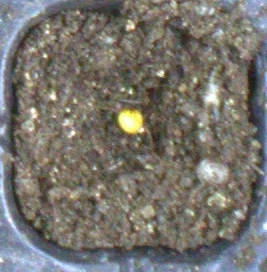pepper seed: (44, 41, 188, 176)
